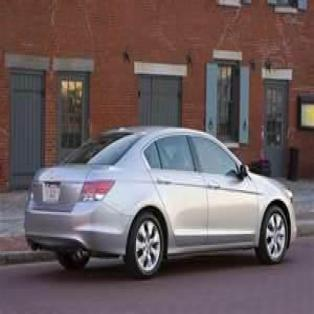Auto: (27, 128, 296, 274)
